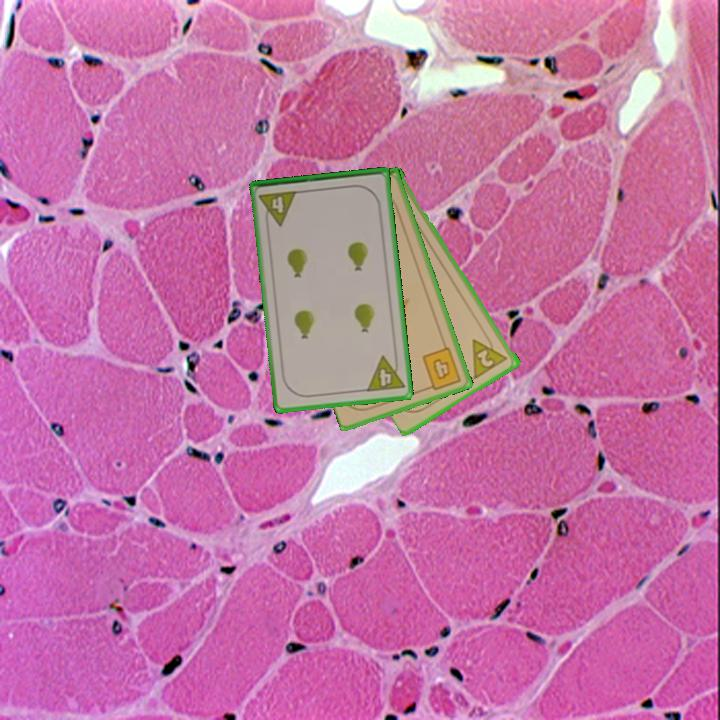2p: (469, 330, 511, 381)
4b: (419, 343, 464, 393)
4p: (363, 351, 407, 395), (256, 187, 300, 229)
